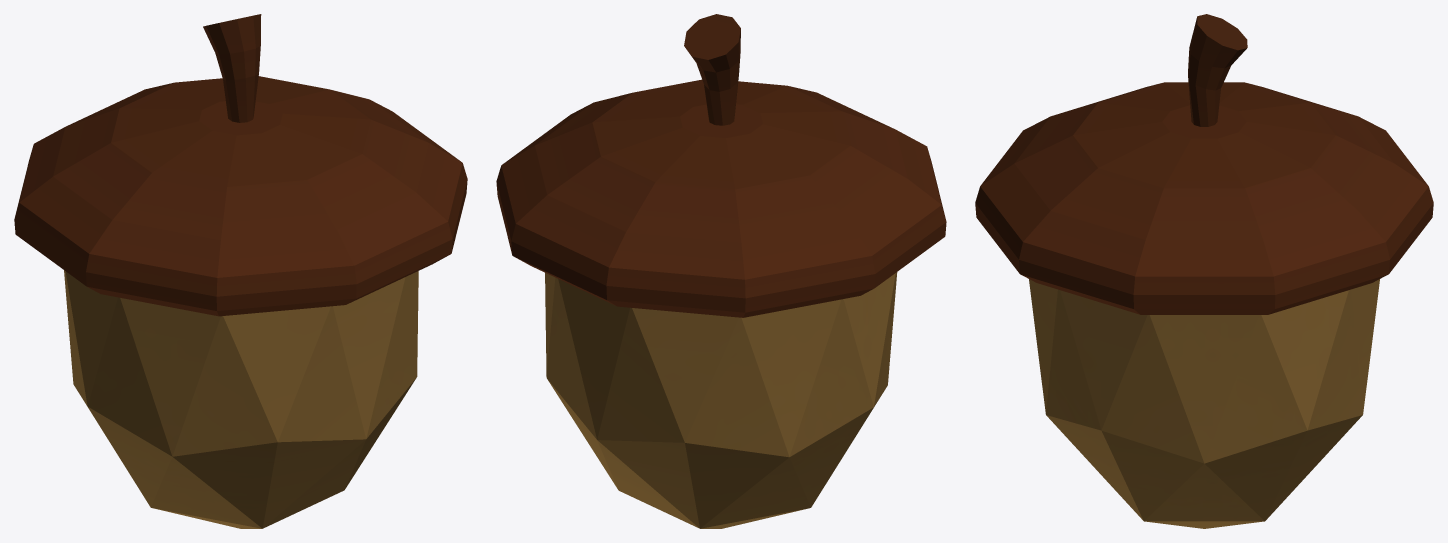
The model's file is acorn.glb.
3 renders of one model, left to right at view 1: azimuth 30°, elevation 25°; view 2: azimuth 150°, elevation 25°; view 3: azimuth 270°, elevation 25°, orthographic.
Visible parts, largest first — view 1: Icosphere.007; view 2: Icosphere.007; view 3: Icosphere.007.
Part boxes in pixels (box(x1,y1,x2,y2)): Icosphere.007: box(14, 14, 467, 528); Icosphere.007: box(496, 14, 946, 528); Icosphere.007: box(975, 14, 1433, 528).
Bounding box in the file's own units: 1.38 × 1.78 × 1.45.
1 material, 1 textured.
